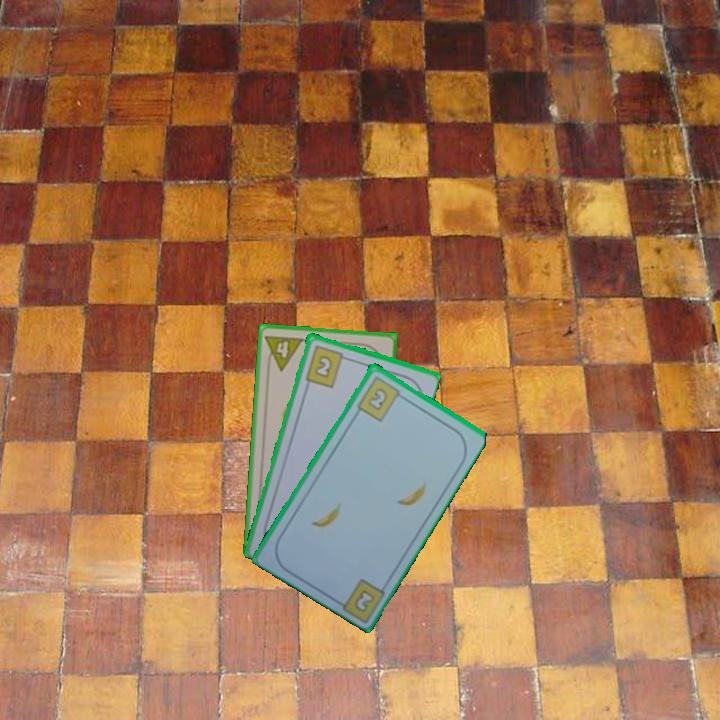2b: (353, 372, 407, 424), (302, 341, 351, 390), (351, 585, 377, 615)
4p: (262, 331, 306, 373)
